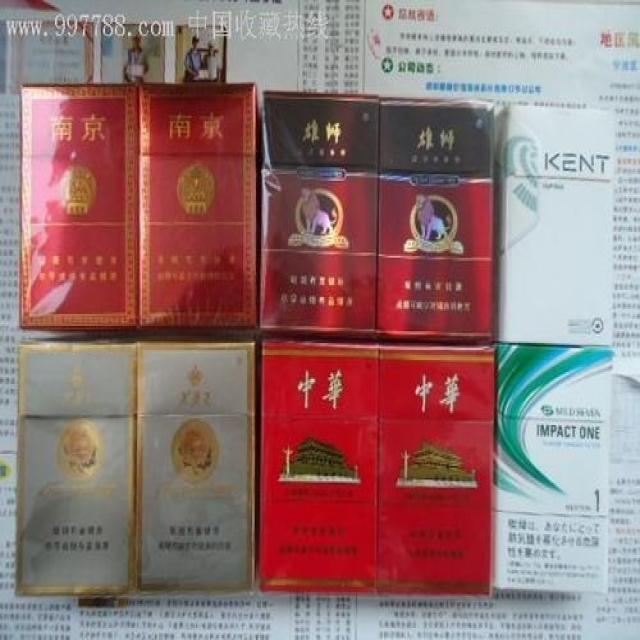box: (15, 338, 136, 596), (257, 341, 379, 596), (259, 90, 380, 341), (492, 345, 613, 594), (376, 345, 495, 597), (136, 340, 253, 596), (140, 82, 260, 329), (20, 84, 140, 329), (495, 104, 616, 345), (376, 97, 494, 343)
